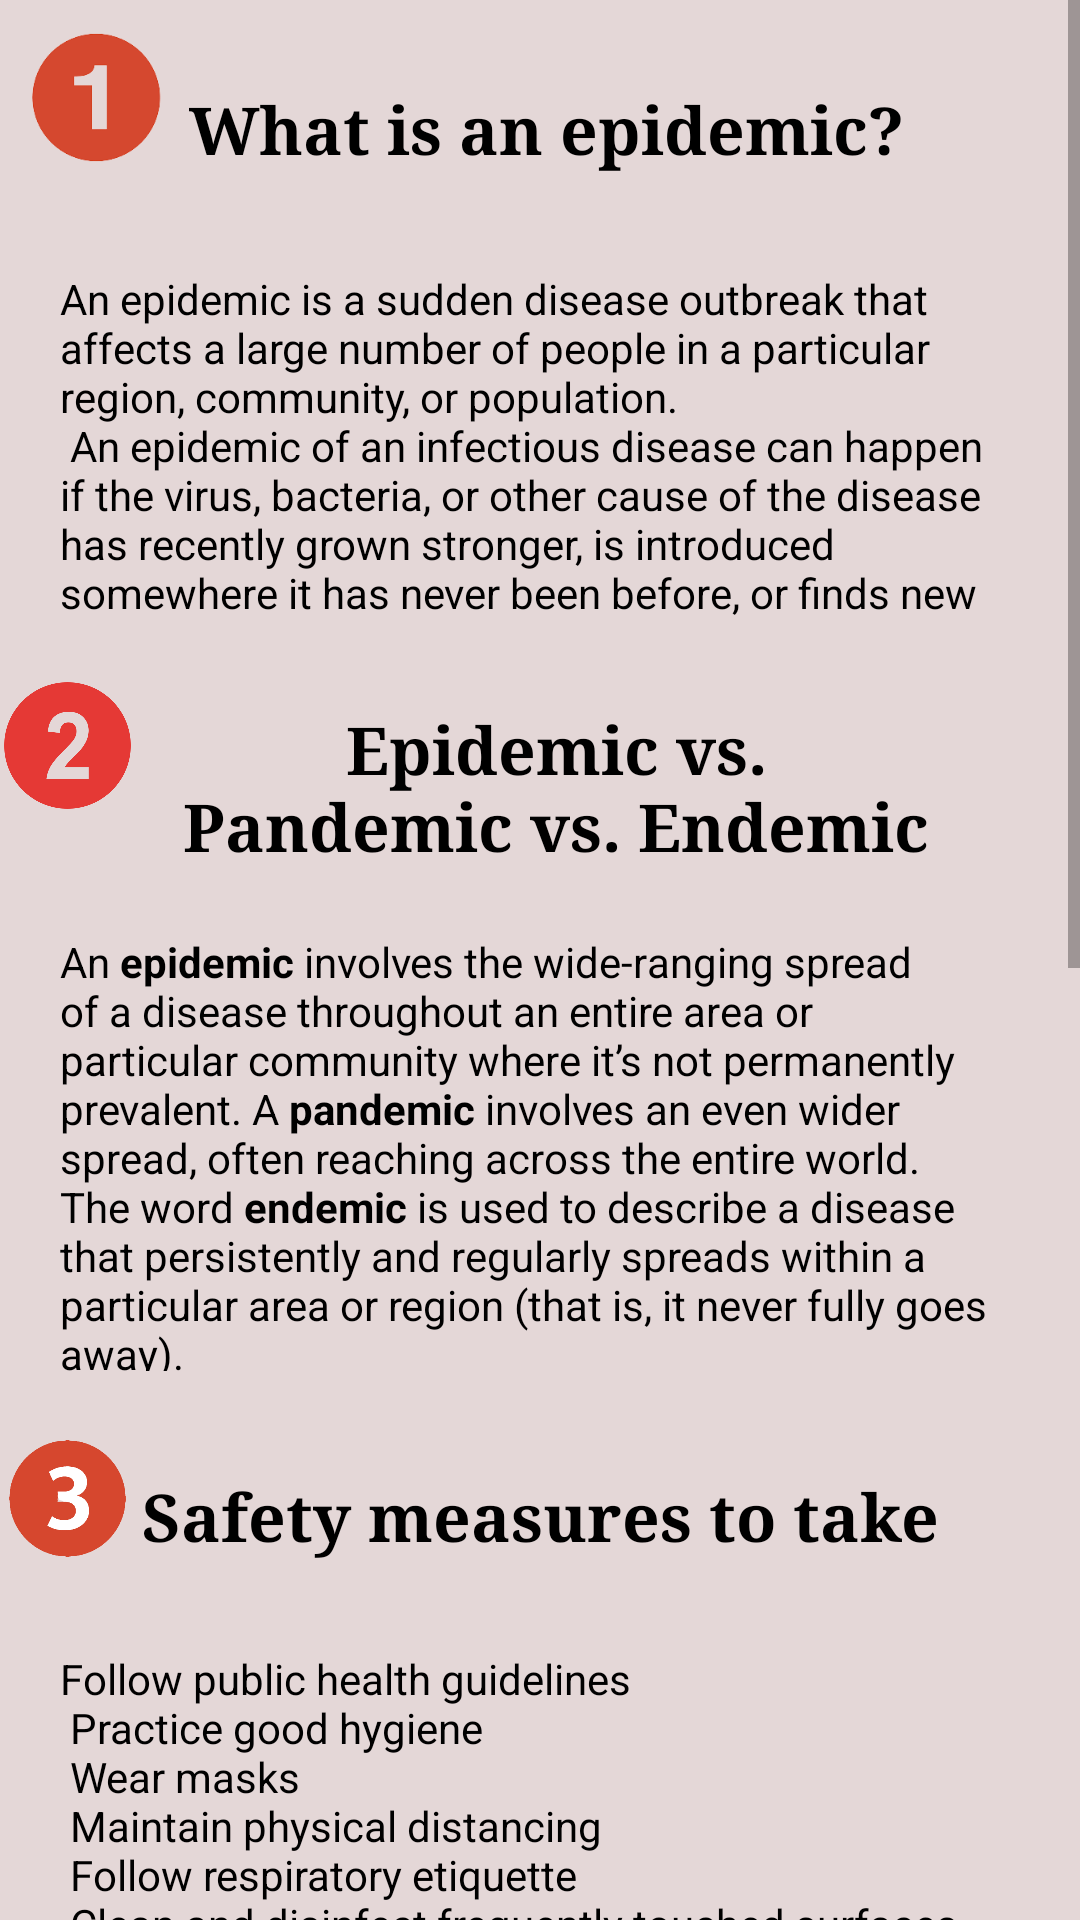

Where to tap for icons on this 1080px×1920px app screen, as [x,y]:
numberonenew: [96,97]
numberthreenew: [67,1498]
numbertwonew: [67,745]
